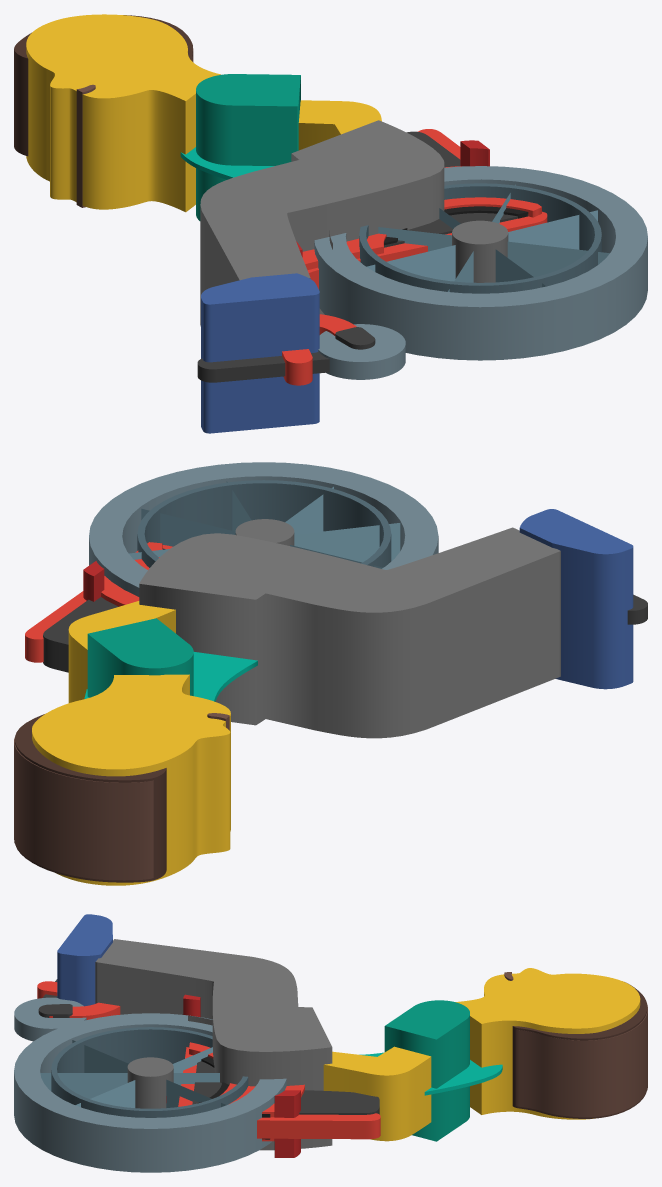
File: emoji_u1f468_200d_1f9bd.glb
3 views of the same model, one above another, from view 1: azimuth 30°, elevation 25°; view 2: azimuth 150°, elevation 25°; view 3: azimuth 270°, elevation 25° (orthographic). The views are drawn at different scales.
Visible parts, largest first — view 1: emoji_u1f468_200d_1f9bd; view 2: emoji_u1f468_200d_1f9bd; view 3: emoji_u1f468_200d_1f9bd.
Part boxes in pixels (<box>): emoji_u1f468_200d_1f9bd: <box>14,14,647,433</box>; emoji_u1f468_200d_1f9bd: <box>14,462,647,885</box>; emoji_u1f468_200d_1f9bd: <box>14,914,647,1172</box>.
Size of the model in its own units: 0.022 by 0.0058 by 0.0315.
